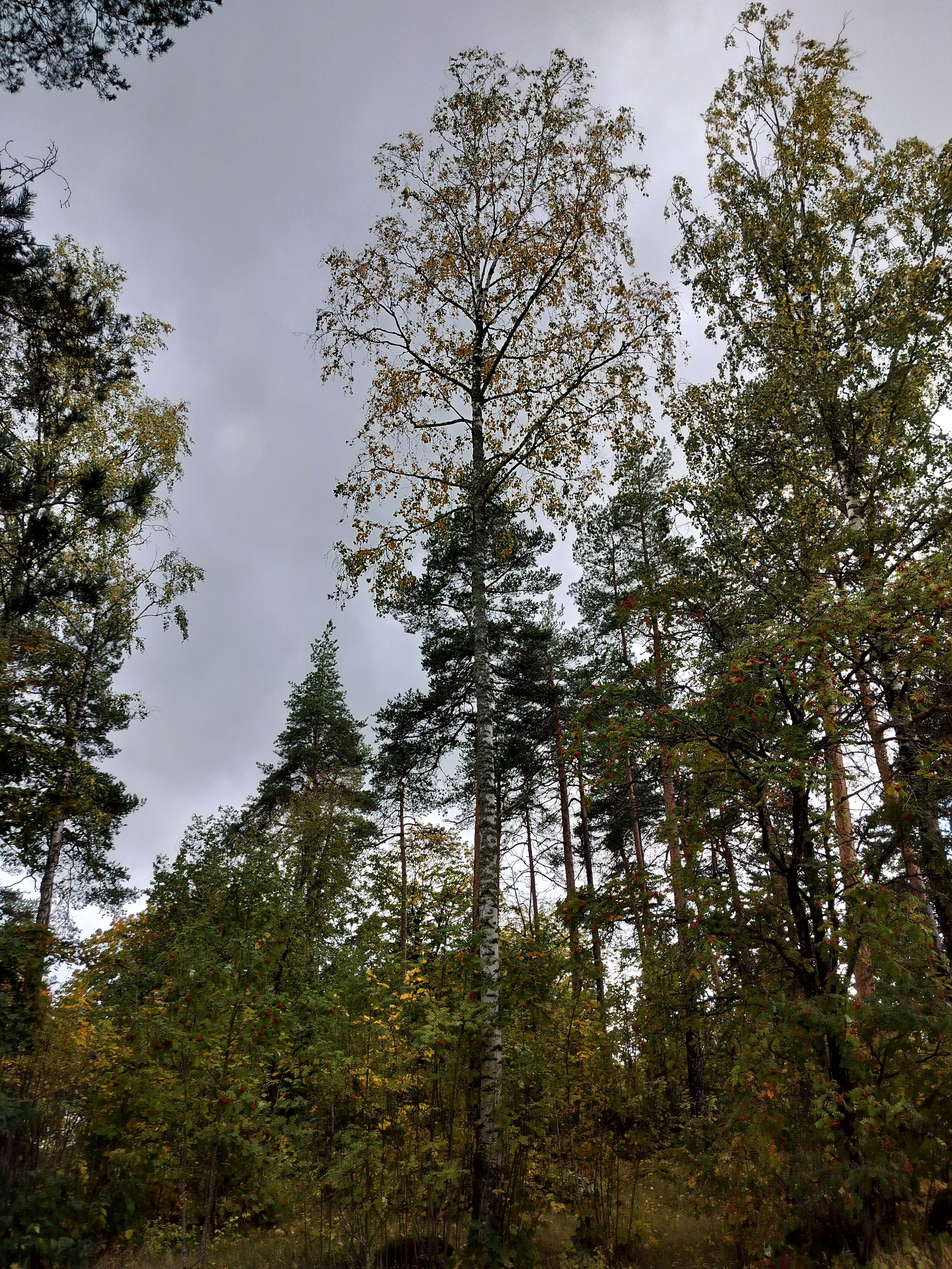Birch: (301, 43, 681, 1250)
